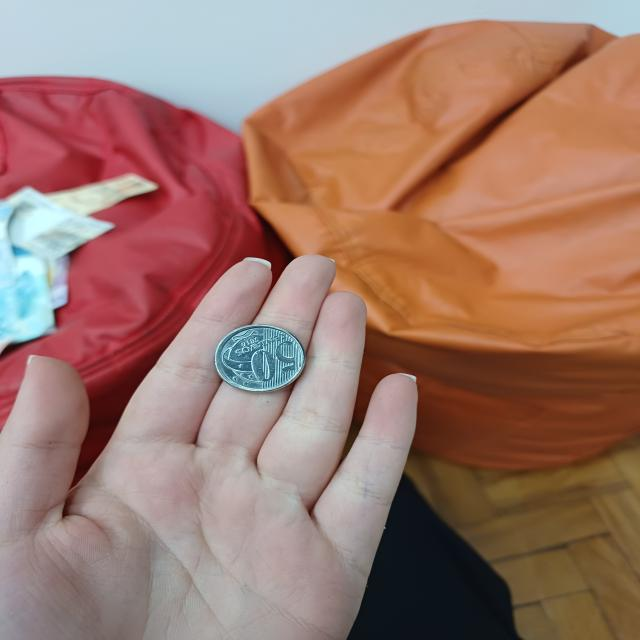50 cents: (212, 324, 312, 396)
